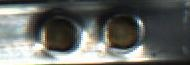joints: (28, 4, 95, 59), (92, 6, 147, 57)
